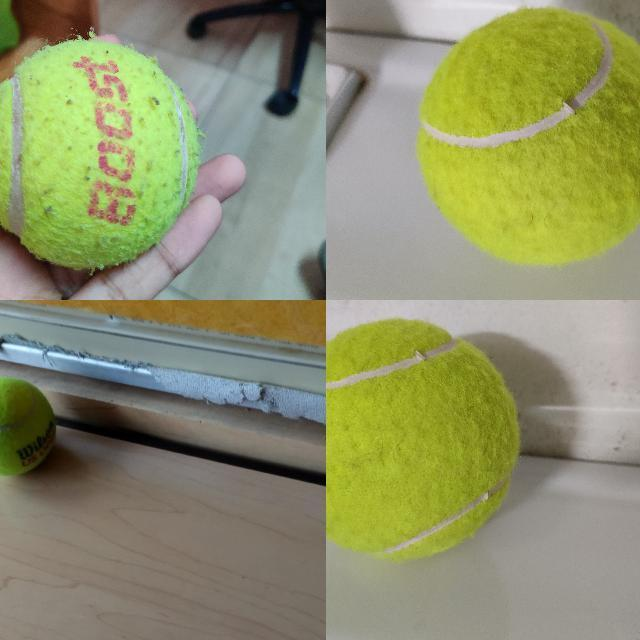tennis-ball: (411, 2, 639, 271), (326, 316, 524, 561), (0, 40, 199, 267), (0, 376, 58, 477)
